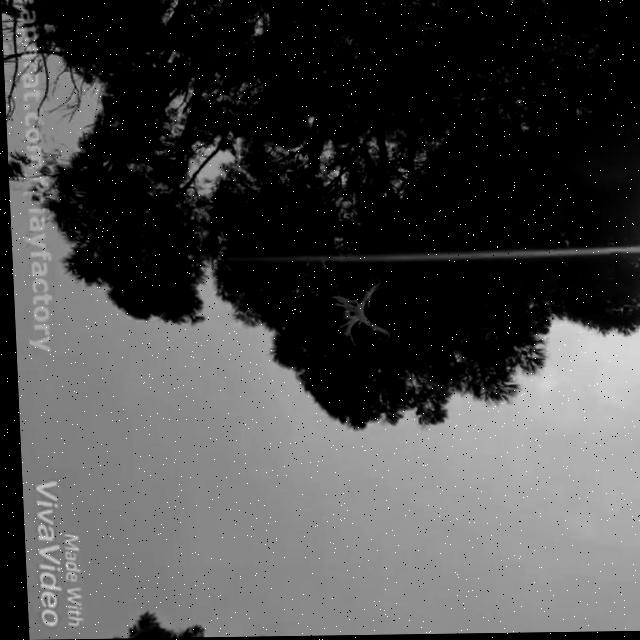drone: (326, 278, 388, 348)
